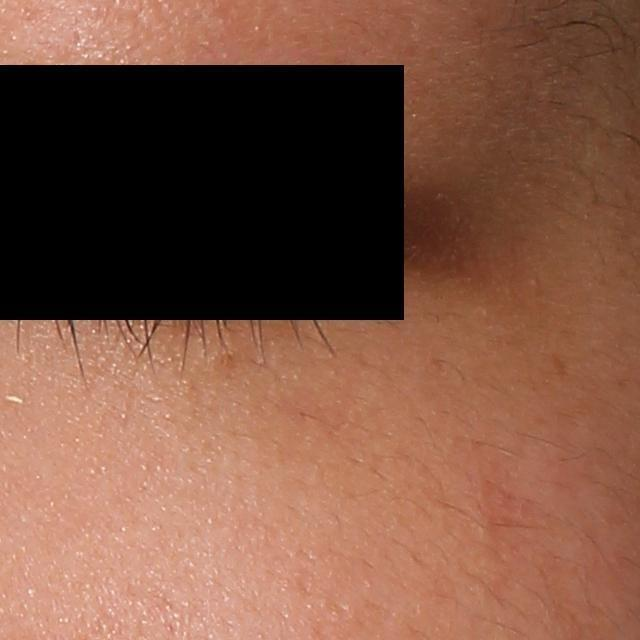melasma: (552, 350, 574, 379)
